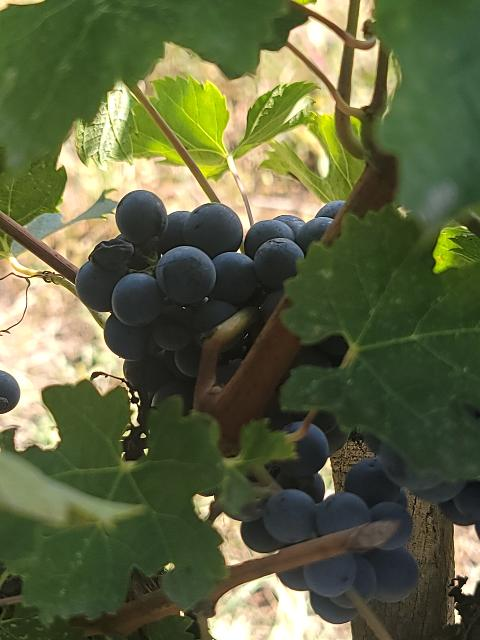grapes: (75, 190, 340, 408), (241, 424, 419, 622), (218, 321, 260, 381)
